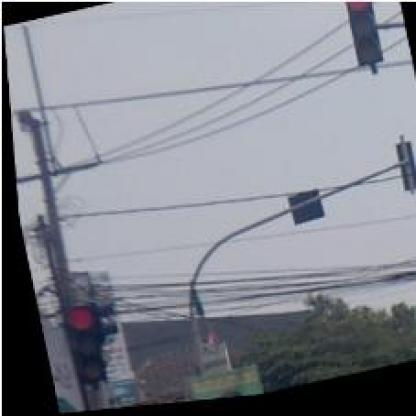red: (58, 298, 104, 388), (341, 0, 385, 77)
